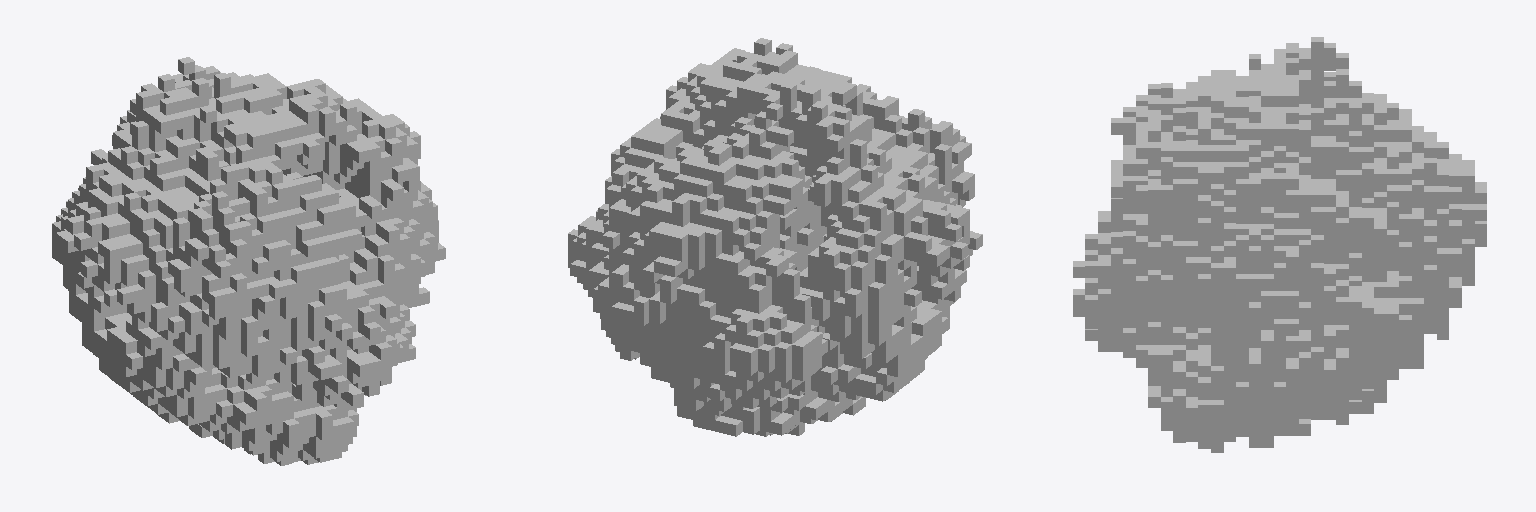
File: meteorito.obj
3 renders of one model, left to right at view 1: azimuth 30°, elevation 25°; view 2: azimuth 150°, elevation 25°; view 3: azimuth 270°, elevation 25°, orthographic.
Visible parts, largest first — view 1: object 1; view 2: object 1; view 3: object 1.
Boxes of the visible parts, box(x1,y1,x2,y2) form: object 1: box(52, 57, 445, 465); object 1: box(568, 38, 982, 436); object 1: box(1073, 37, 1486, 452).
Size of the model in its own units: 3.4 by 3.2 by 3.3.